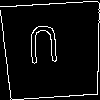U: (27, 24, 61, 72)
